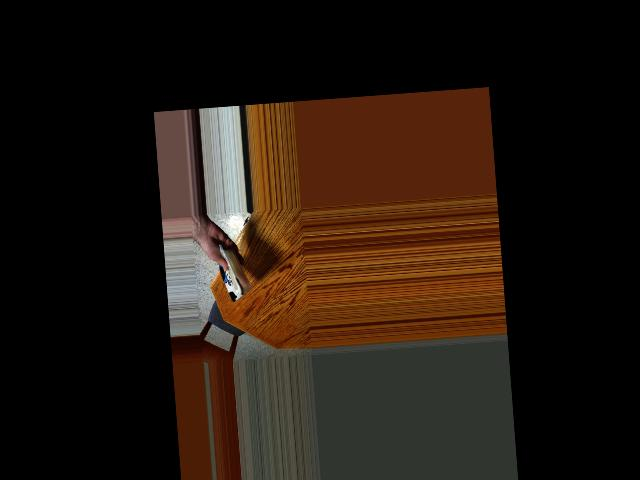cheese: (208, 247, 254, 301)
